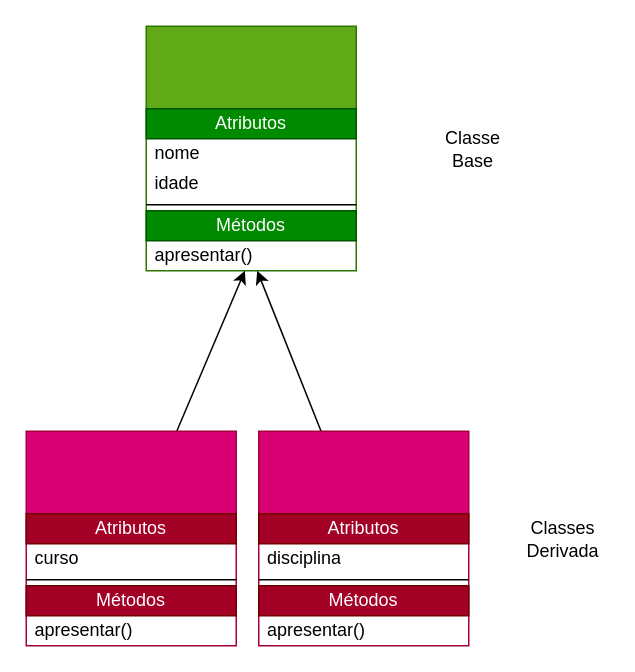
Image size: 635x672. Some labels were removed from this diagram. The shapes that lost their labels are listed below. From the top down, each one's box as (x1, y1, x2, y2) in pixels, then its label:
(145, 25, 356, 271): Pessoa
(25, 430, 236, 646): Estudante
(257, 430, 469, 646): Professor
